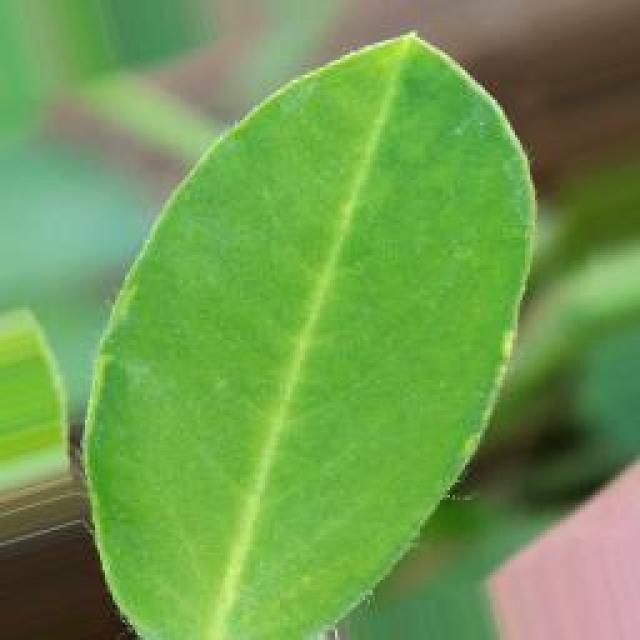Yellow_and_black_sigatoka: (73, 23, 540, 640)
